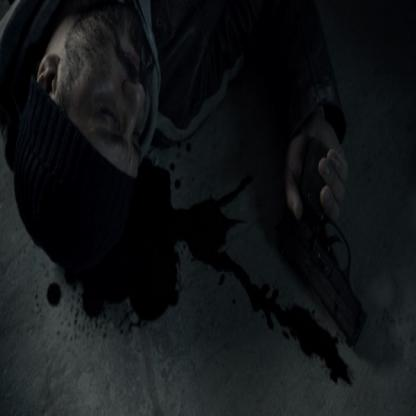Gun: (272, 133, 368, 349)
